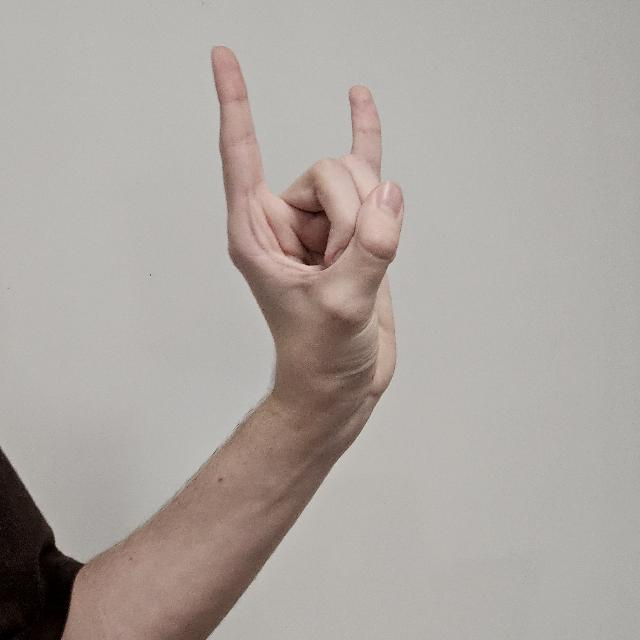L: (210, 43, 404, 423)
